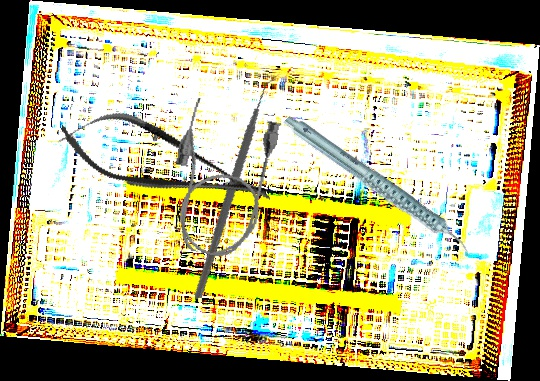Cannula: (158, 95, 283, 264)
Chopper: (148, 76, 332, 300)
Handpiece: (281, 83, 473, 292)
Micro Scissor: (51, 95, 281, 230)
